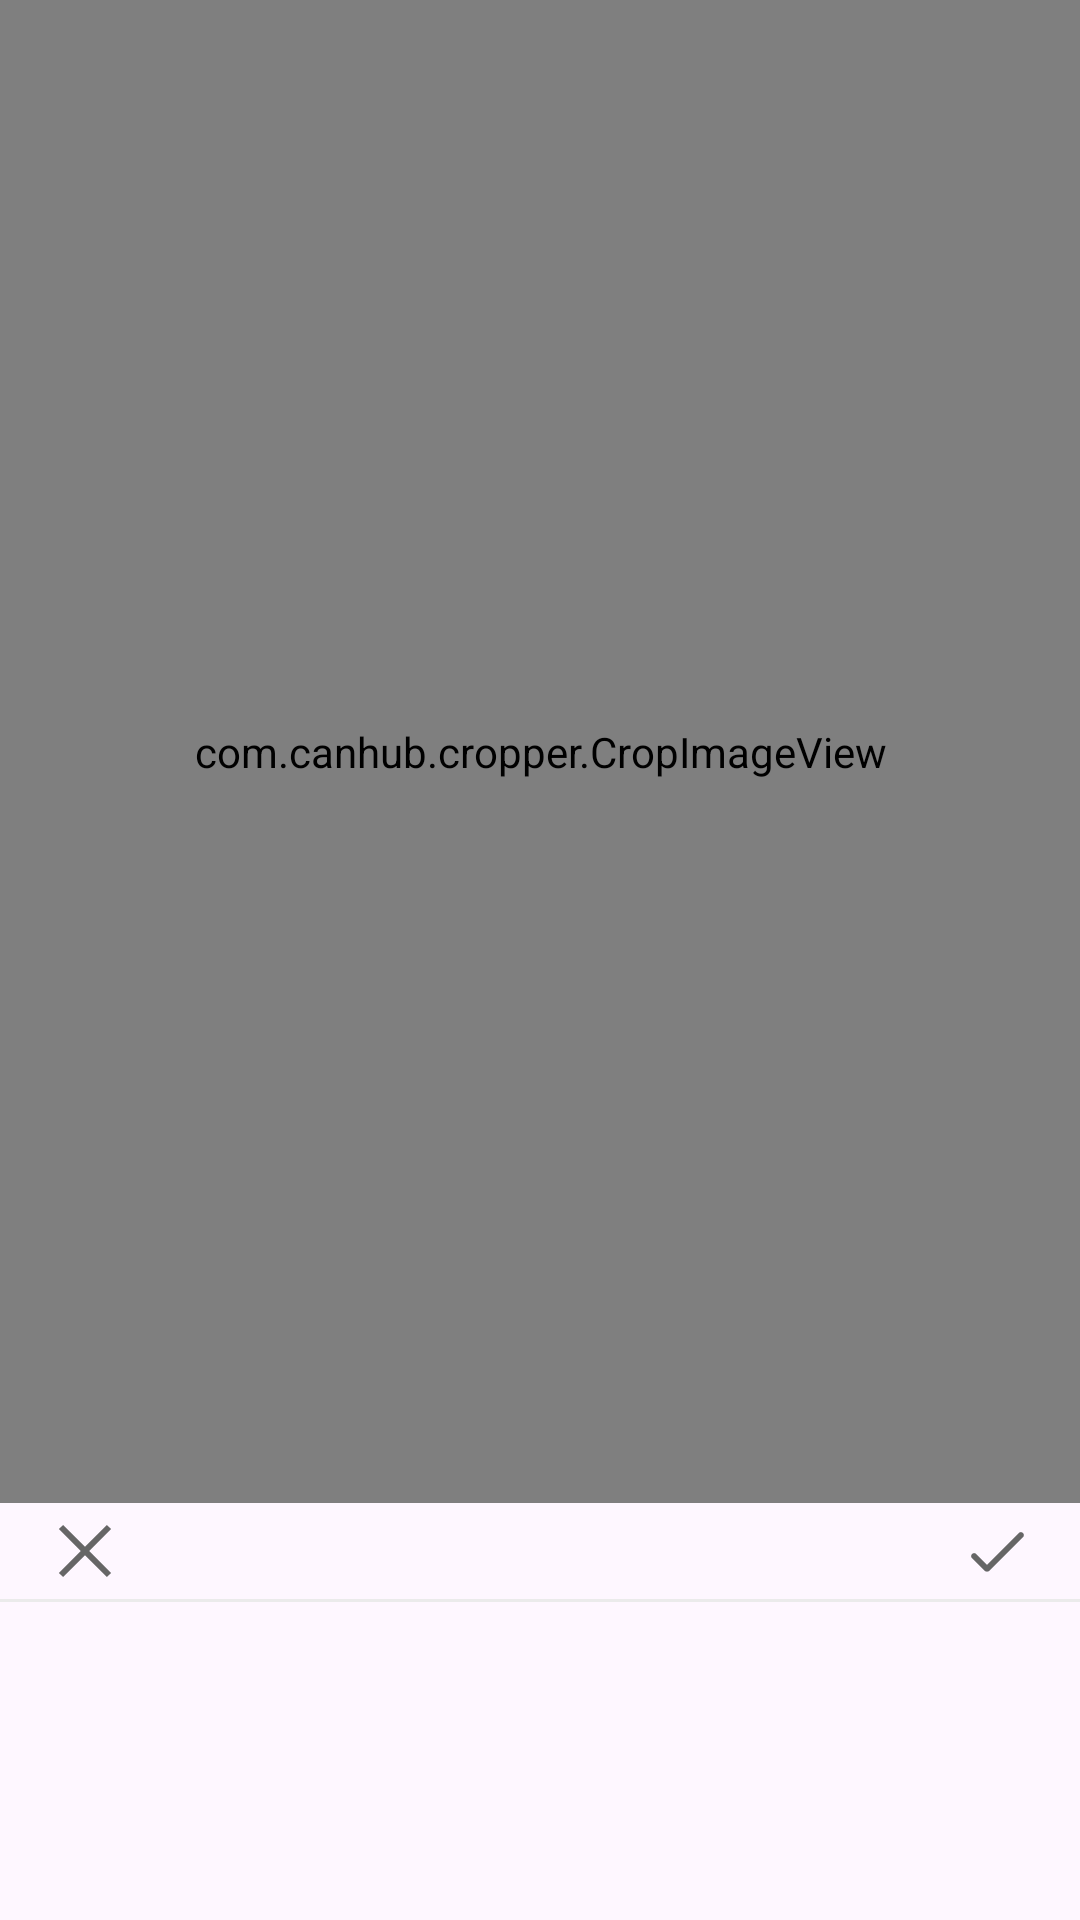

Named icons in this screenshot (1080*1920) and their centers, [x,y]:
close: [85,1551]
tick done: [997,1552]
